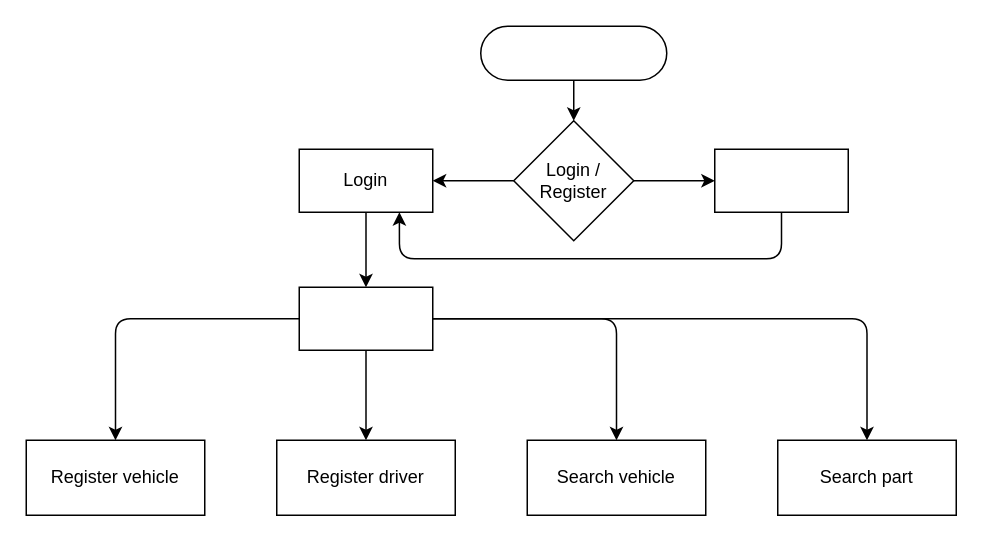
This 983x542 diagram has some shape labels left out. Each missing label, with the centre of its shape:
Home: point 365,318
Landing: point 573,52
Register: point 780,180
